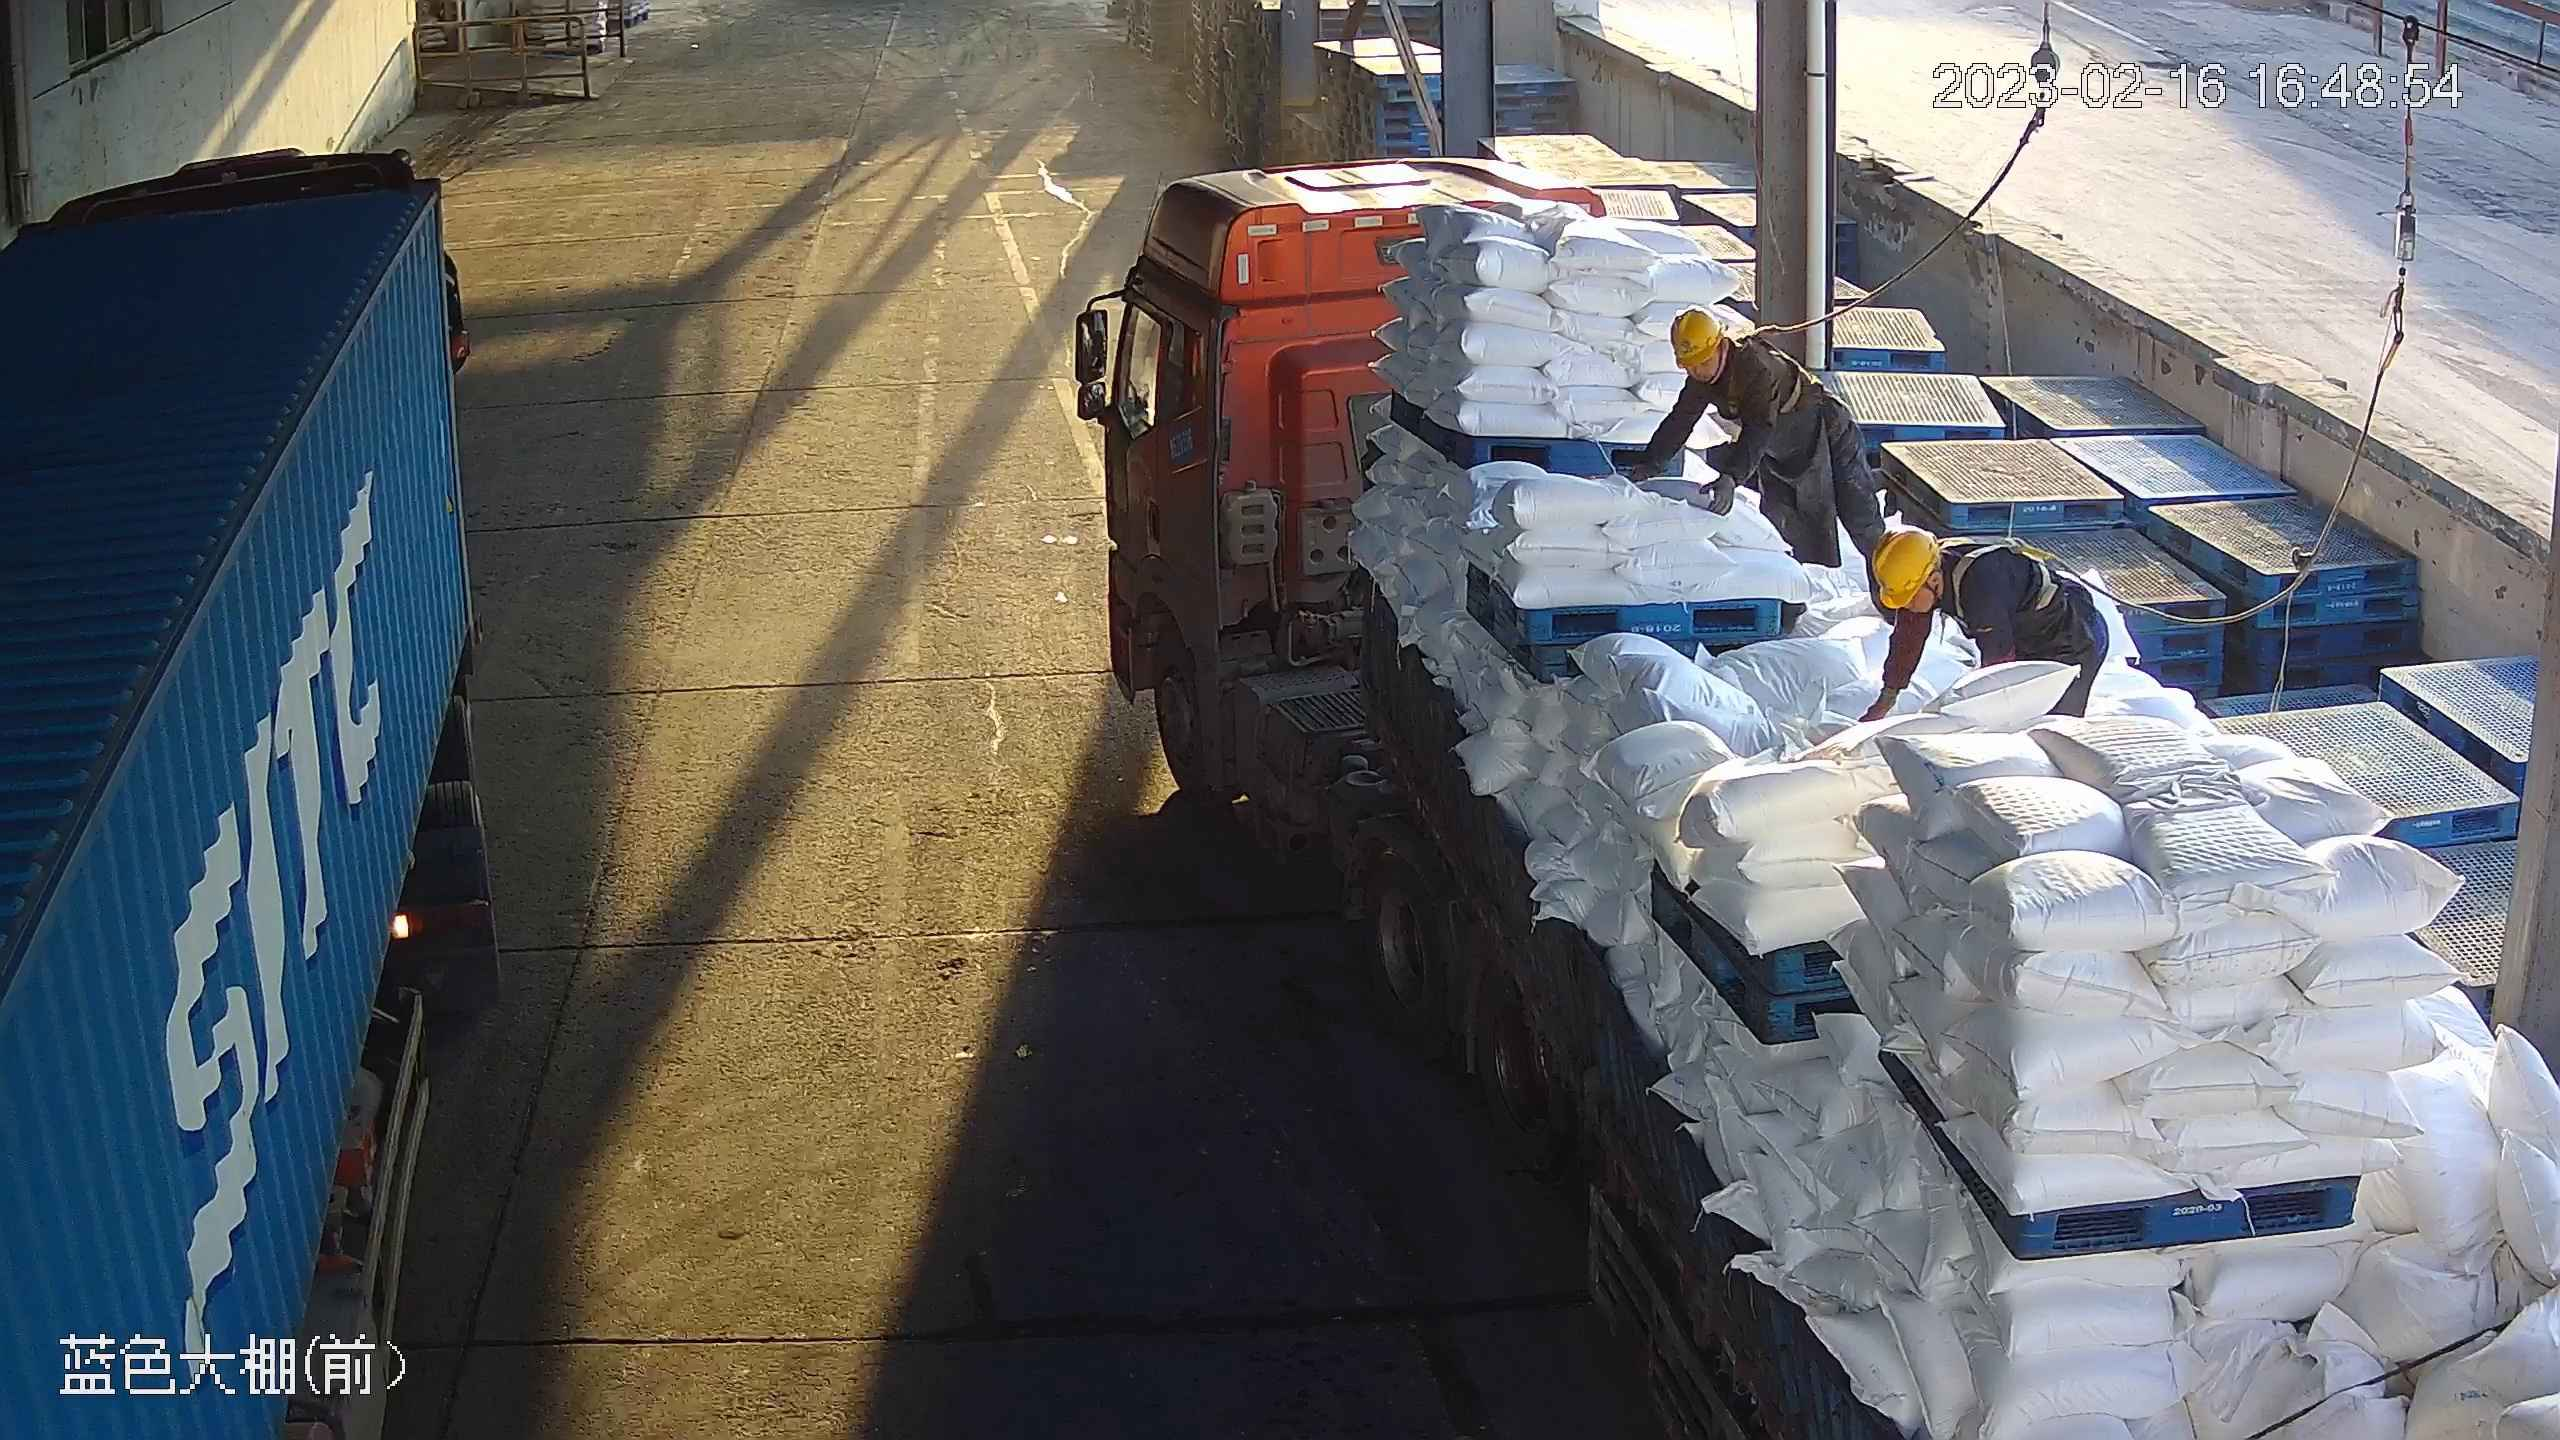belt: (1939, 534, 2064, 631), (1725, 325, 1802, 417)
head: (1872, 523, 2009, 623), (1670, 309, 1781, 406)
helmet: (1872, 524, 1940, 611), (1670, 309, 1724, 368)
people: (1624, 309, 1893, 566), (1859, 524, 2111, 722)
truck: (1070, 152, 2560, 1440), (1, 144, 505, 1440)
